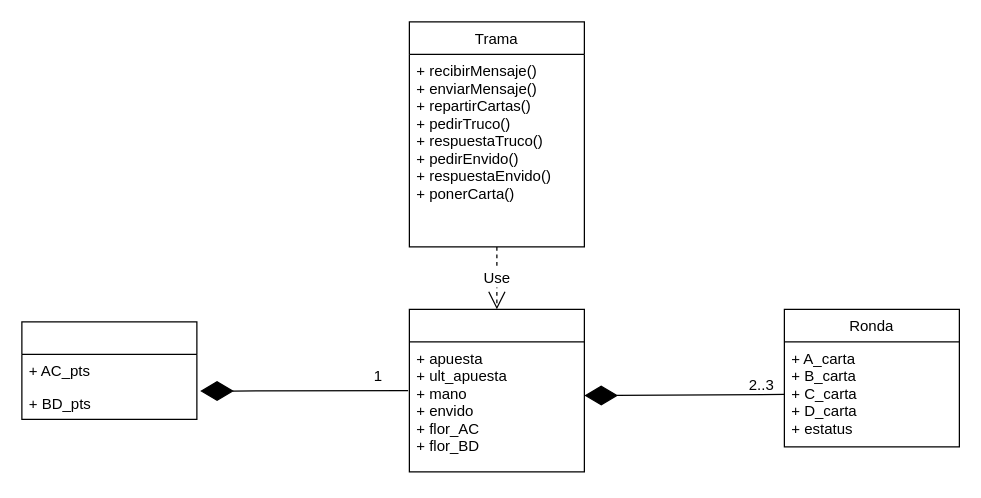
This 981x498 diagram has some shape labels left out. The shapes that lost their labels are listed below. From the top down, each one's box as (x1, y1, x2, y2) in pixels, then its label:
(21, 321, 197, 419): Juego
(408, 308, 584, 472): Partida
